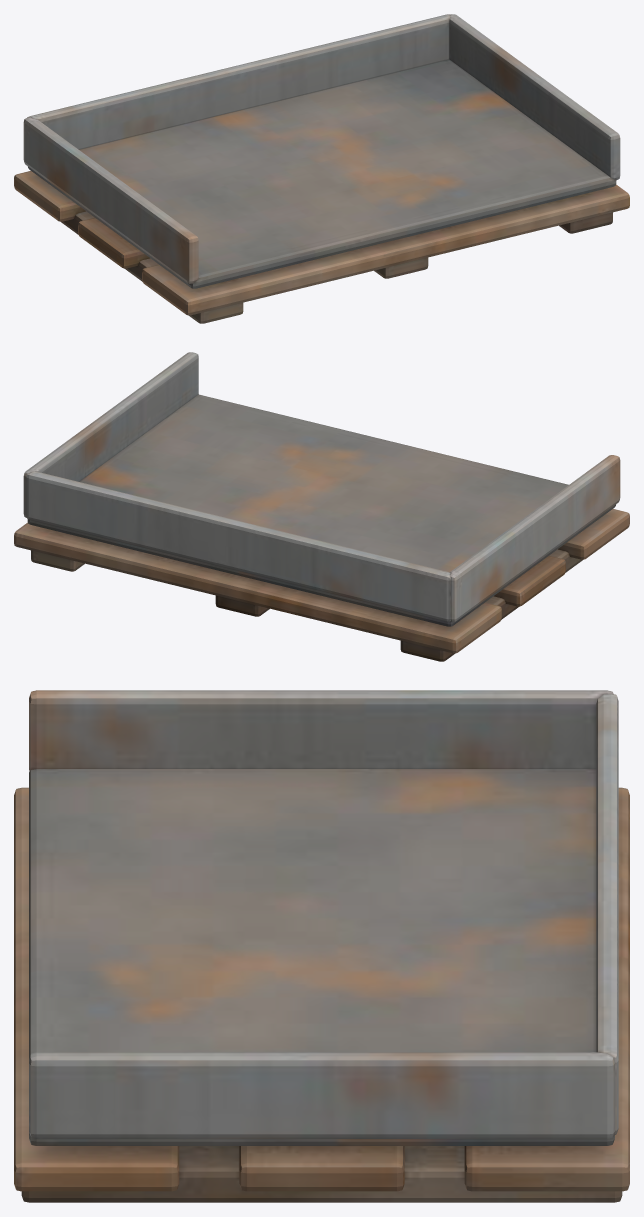
The model's file is press_tray.glb.
3 renders of one model, top to bottom at view 1: azimuth 30°, elevation 25°; view 2: azimuth 150°, elevation 25°; view 3: azimuth 270°, elevation 25°, orthographic. The views are drawn at different scales.
Visible parts, largest first — view 1: PressTray_Mesh; view 2: PressTray_Mesh; view 3: PressTray_Mesh.
Part boxes in pixels (left/top/right/bottom): PressTray_Mesh: left=14, top=14, right=629, bottom=323; PressTray_Mesh: left=14, top=352, right=629, bottom=661; PressTray_Mesh: left=14, top=690, right=629, bottom=1202.
Size of the model in its own units: 1.2 by 0.225 by 0.82.
1 material, 1 textured.
